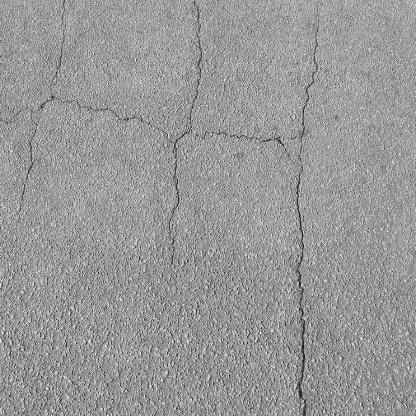Cracks: (0, 98, 296, 164), (286, 43, 325, 416), (18, 0, 71, 214), (168, 0, 209, 264)
